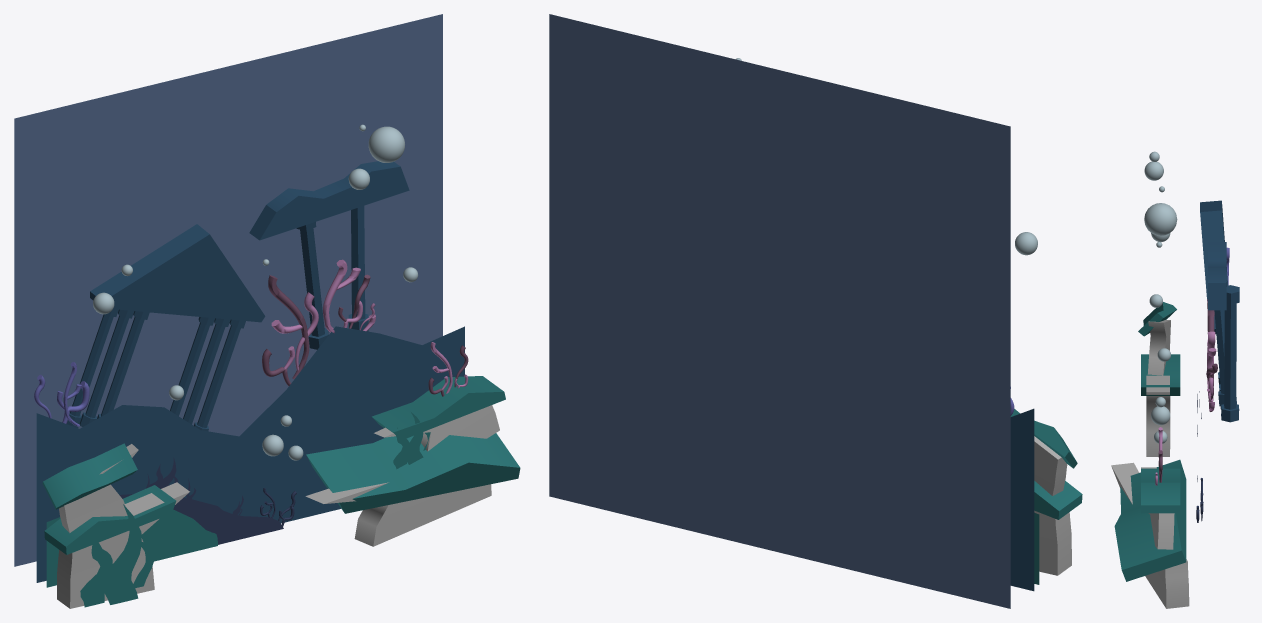
Rendered from BG_under_water.fbx.
The picture shows the model from 3 angles, left to right: view 1: azimuth 30°, elevation 25°; view 2: azimuth 150°, elevation 25°; view 3: azimuth 270°, elevation 25°; orthographic projection. The views are drawn at different scales.
Visible parts, largest first — view 1: pPlane1, pPlane2, pCube41, pCube37, pCube34 (×2), pCube38, pCube39, pCube42, pCube36, pPlane3, pCube35, pPlane4 (+13 smaller); view 2: pPlane1, pPlane2, pCube34 (×2), pCube35, pCube36; view 3: pCube41, pCube34 (×2), pCube39, pCylinder9, pCube42, pCube38, pCube37, pCube35, pSphere5, pCube40, pCylinder8, pCube36 (+3 smaller).
Part boxes in pixels (x1,y1,x2,y2): pPlane1: [14, 14, 442, 566]; pPlane2: [36, 326, 464, 582]; pCube41: [306, 433, 520, 513]; pCube37: [90, 224, 265, 322]; pCube34 (×2): [57, 444, 189, 608]; pCube38: [249, 161, 409, 240]; pCube39: [305, 482, 491, 546]; pCube42: [372, 376, 505, 440]; pCube36: [42, 443, 137, 509]; pPlane3: [46, 509, 217, 587]; pCube35: [44, 485, 176, 554]; pPlane4: [119, 494, 283, 544]; pPlane1: [549, 14, 1010, 608]; pPlane2: [1010, 408, 1034, 591]; pCube34 (×2): [1034, 436, 1071, 575]; pCube35: [1034, 481, 1082, 519]; pCube36: [1010, 409, 1077, 468]; pCube41: [1114, 459, 1186, 581]; pCube34 (×2): [1146, 320, 1170, 456]; pCube39: [1111, 462, 1189, 608]; pCylinder9: [1221, 285, 1239, 422]; pCube42: [1141, 468, 1180, 513]; pCube38: [1208, 242, 1226, 310]; pCube37: [1200, 200, 1228, 331]; pCube35: [1141, 354, 1180, 395]; pSphere5: [1144, 203, 1177, 235]; pCube40: [1141, 467, 1174, 549]; pCylinder8: [1214, 280, 1236, 406]; pCube36: [1138, 302, 1176, 336].
Size of the model in its own units: 292 by 279 by 85.34.
